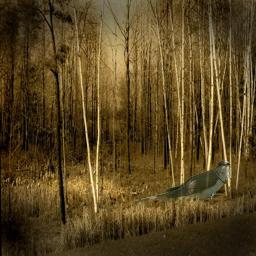Cuckoo: (129, 159, 230, 205)
